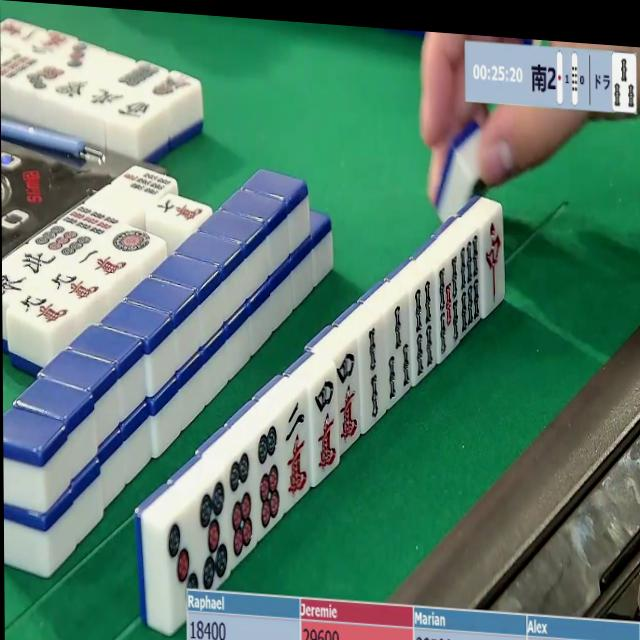m2: (281, 400, 311, 502)
m4: (310, 375, 340, 481), (336, 346, 364, 450)
m7: (146, 192, 211, 232)
m9: (41, 267, 104, 307)
s2: (359, 324, 389, 428)
s3: (386, 300, 414, 402), (613, 55, 636, 114)
s4: (411, 278, 438, 385)
s5: (436, 260, 462, 363)
s6: (457, 231, 484, 343)
t1: (103, 221, 163, 263)
t3: (167, 506, 199, 589)
t5: (197, 482, 228, 592)
t6: (227, 447, 258, 569), (255, 421, 284, 538)
t9: (60, 202, 123, 242)
zhong: (483, 213, 504, 314)
